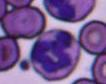N: (30, 28, 80, 81)
